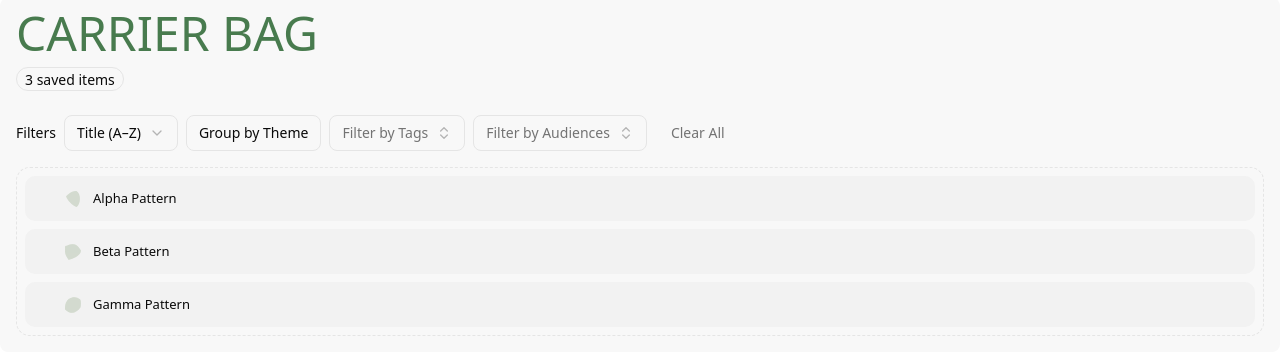
Test: CarrierBagContent Filtering and Ordering › clears manual order when sort option is changed
The width and height of the screenshot is (1280, 353).
Change sort order - open the select first
Click the dropdown named "Sort by": point(121, 133) top-left (64, 115), bottom-right (178, 151)
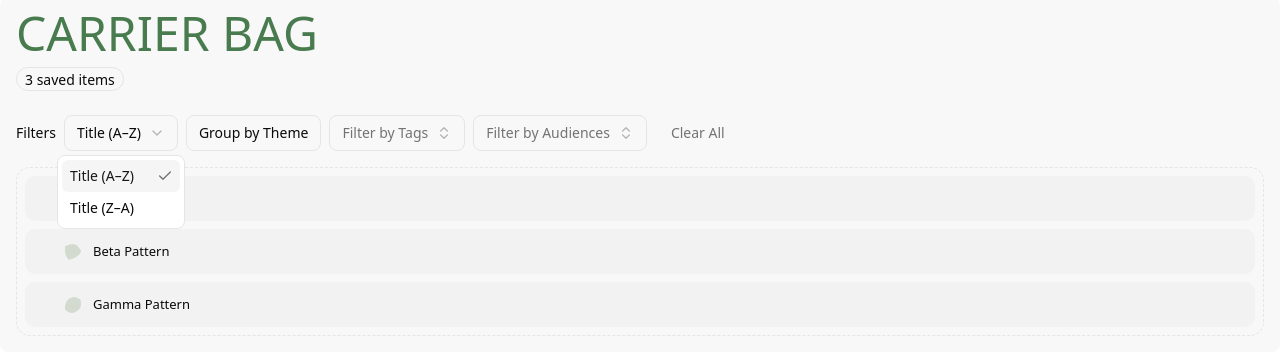
Click the option "Title (Z–A)": point(102, 208) top-left (70, 198), bottom-right (134, 217)
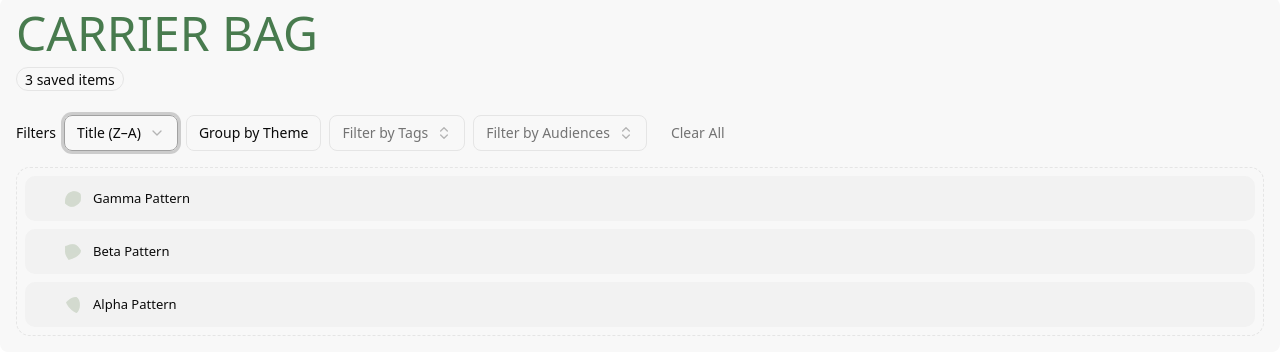
Check: the text "Beta Pattern" is shown, box top-left (93, 242), bottom-right (169, 260)
Check: the text "Gamma Pattern" is shown, box top-left (93, 189), bottom-right (190, 207)
Check: the text "Alpha Pattern" is shown, box top-left (93, 295), bottom-right (177, 313)
